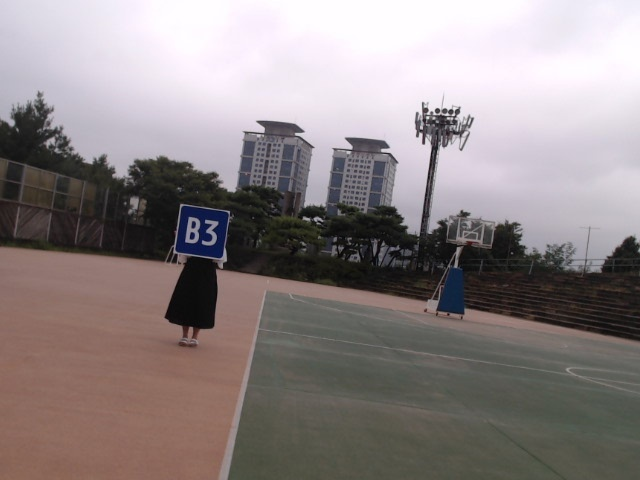delivery_b3: (176, 204, 228, 259)
